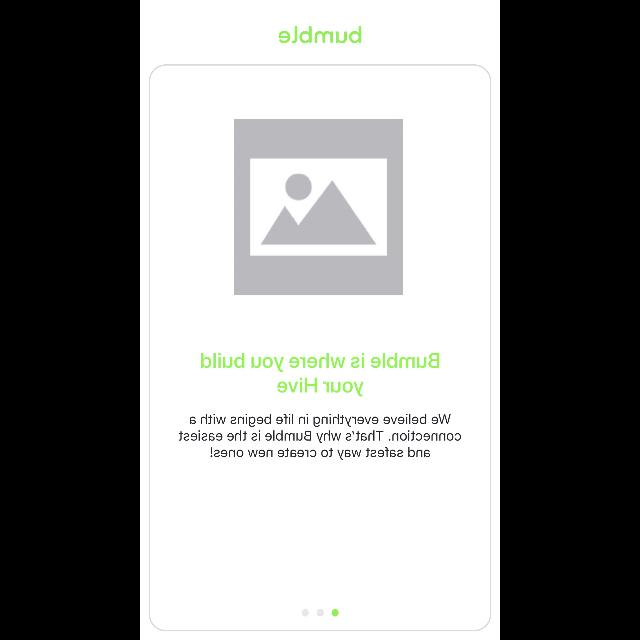image: (234, 118, 402, 296)
pageindicator: (302, 609, 338, 617)
text: (179, 414, 461, 461), (200, 353, 440, 397), (278, 26, 362, 44)
